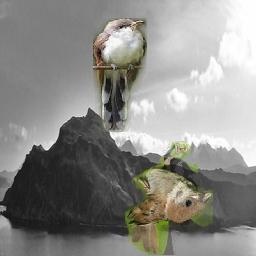Cuckoo: (93, 18, 147, 132)
Sparrow: (125, 141, 213, 255)
